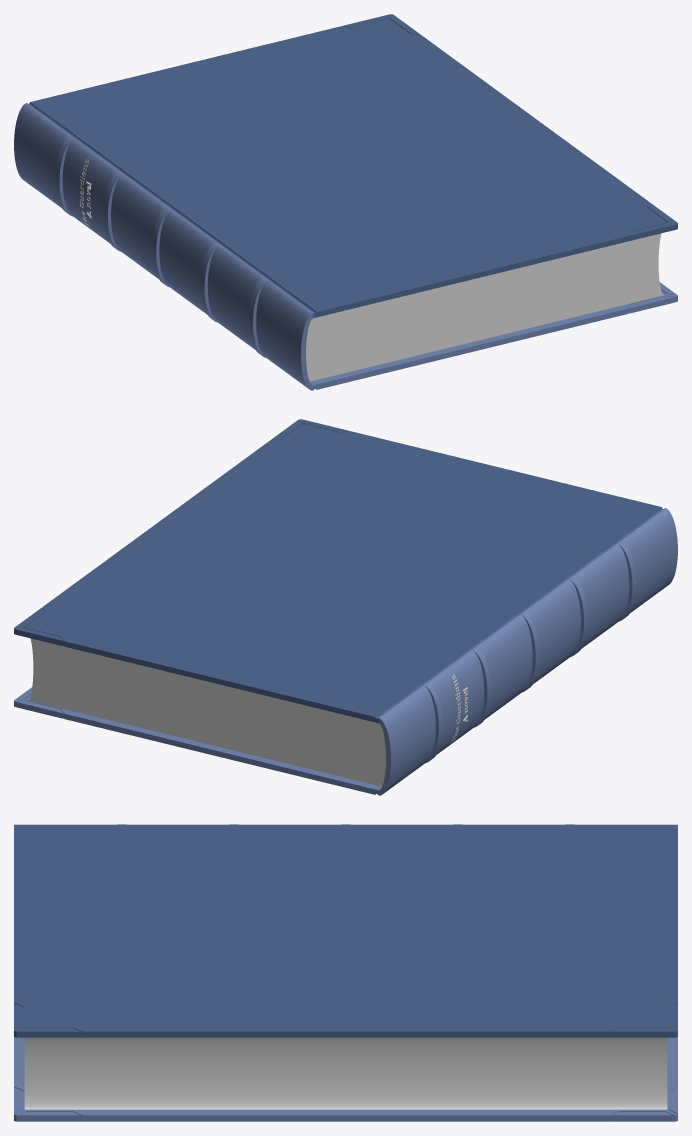
File: Book.glb
3 renders of one model, top to bottom at view 1: azimuth 30°, elevation 25°; view 2: azimuth 150°, elevation 25°; view 3: azimuth 270°, elevation 25°, orthographic. The views are drawn at different scales.
Parts seen in each view (by area): view 1: Mesh_Mesh_head_geo.001_lambert2SG.001; view 2: Mesh_Mesh_head_geo.001_lambert2SG.001; view 3: Mesh_Mesh_head_geo.001_lambert2SG.001.
Boxes of the visible parts, left/top/right/bottom form: Mesh_Mesh_head_geo.001_lambert2SG.001: left=14, top=14, right=677, bottom=390; Mesh_Mesh_head_geo.001_lambert2SG.001: left=14, top=419, right=677, bottom=795; Mesh_Mesh_head_geo.001_lambert2SG.001: left=14, top=824, right=677, bottom=1121.
Bounding box in the file's own units: 119 × 23.2 × 155.
